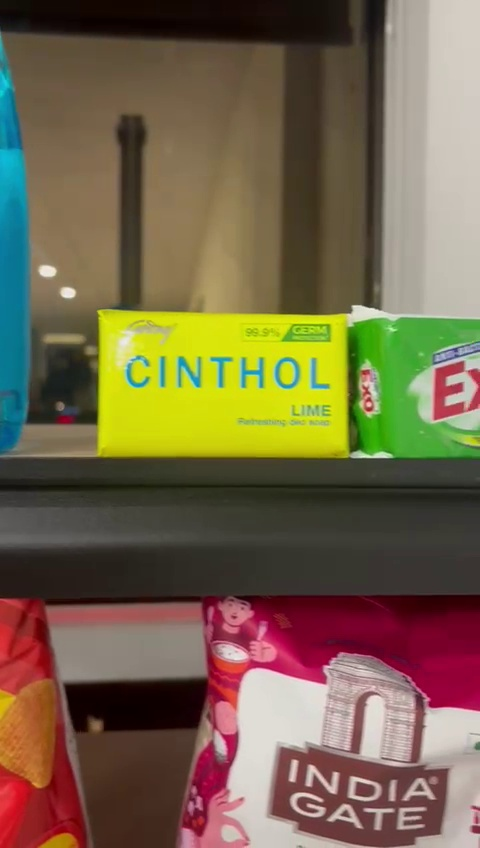Cinthol: (99, 306, 355, 463)
